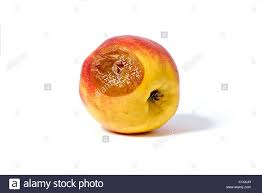damaged_apple: (76, 34, 181, 133)
